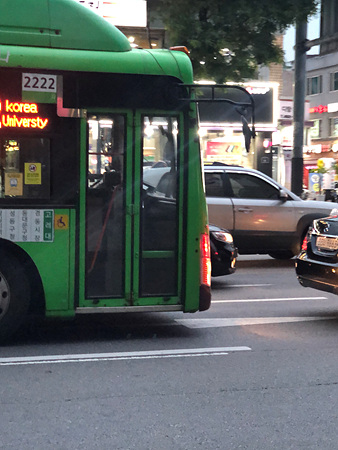entrance: (81, 101, 183, 314)
